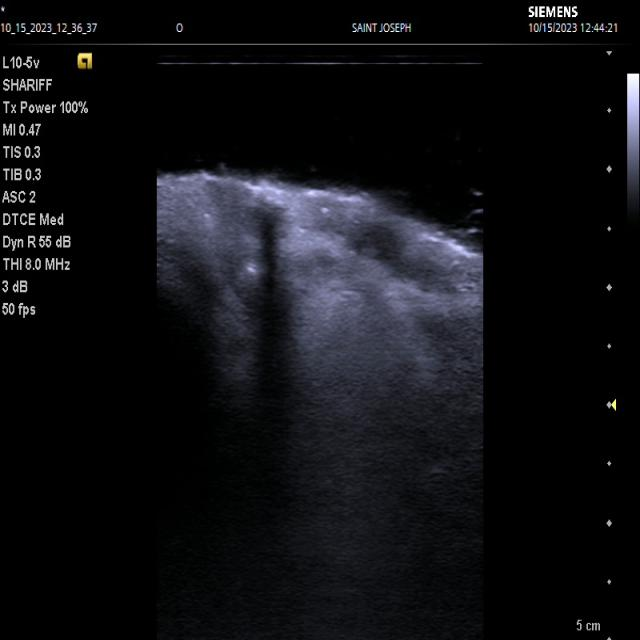tissue: (156, 171, 493, 640)
